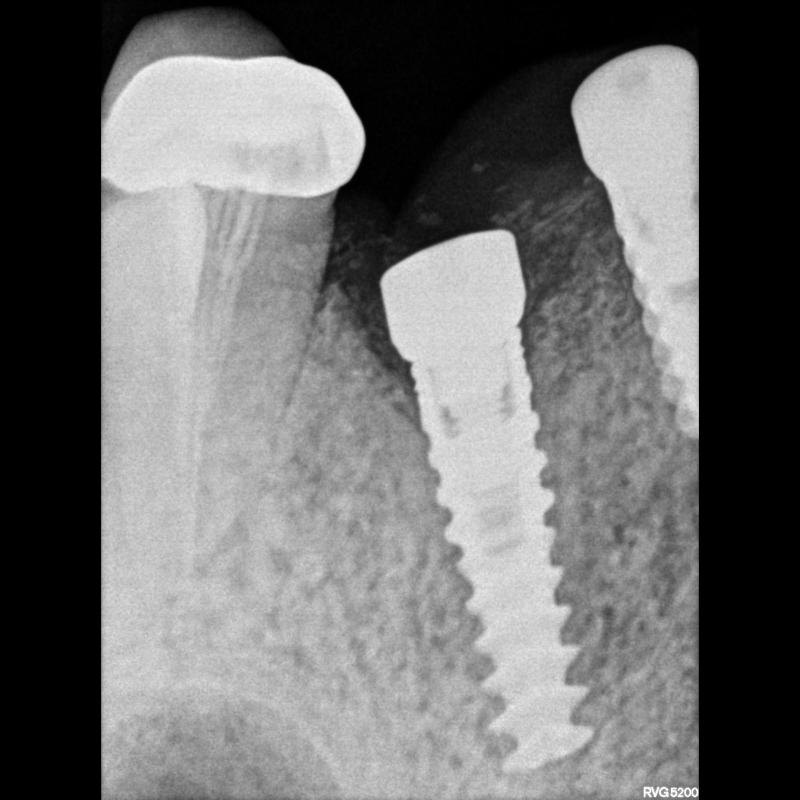ADIN: (406, 333, 592, 773)
